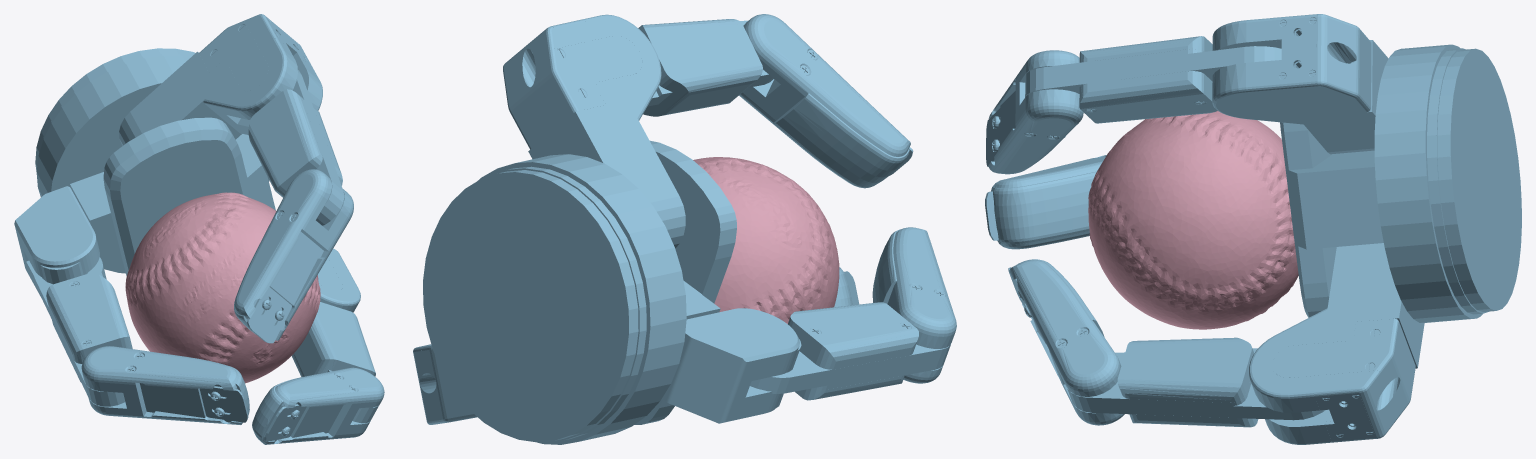
3 views of the same model, side by side, from view 1: azimuth 30°, elevation 25°; view 2: azimuth 150°, elevation 25°; view 3: azimuth 270°, elevation 25° (orthographic). The views are drawn at different scales.
Parts seen in each view (by area): view 1: world, baseball.stl; view 2: world, baseball.stl; view 3: world, baseball.stl.
Part boxes in pixels (box(x1,y1,x2,y2)): world: box(14, 14, 384, 444); baseball.stl: box(125, 192, 320, 383); world: box(413, 14, 956, 444); baseball.stl: box(693, 157, 839, 323); world: box(985, 14, 1521, 444); baseball.stl: box(1088, 111, 1298, 329).
Size of the model in its own units: 0.1524 by 0.1463 by 0.1734.
